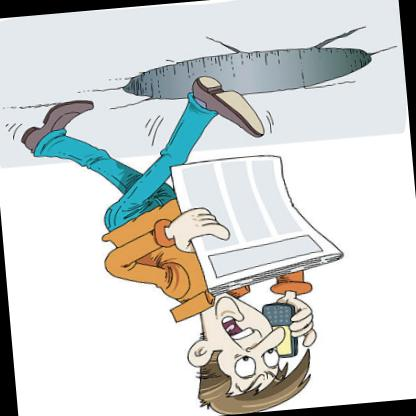manholes: (107, 22, 386, 140)
